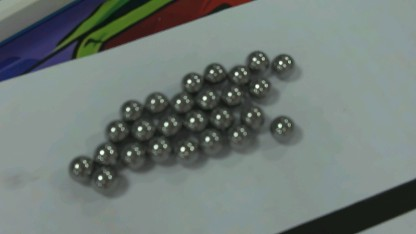ironball: (61, 153, 96, 183), (224, 124, 254, 153), (205, 101, 234, 131), (121, 140, 148, 169), (113, 96, 145, 119), (102, 115, 132, 139), (243, 76, 272, 100), (245, 47, 271, 73), (200, 127, 225, 153), (266, 112, 289, 140), (242, 105, 265, 133), (148, 138, 173, 163), (175, 136, 201, 160), (227, 59, 250, 86), (155, 110, 183, 132), (269, 51, 293, 76), (146, 91, 171, 115), (91, 168, 113, 193), (220, 82, 240, 107), (183, 68, 203, 93), (131, 116, 155, 136), (96, 142, 116, 166), (195, 87, 220, 105), (207, 63, 227, 84), (172, 91, 191, 113), (185, 111, 205, 129)
